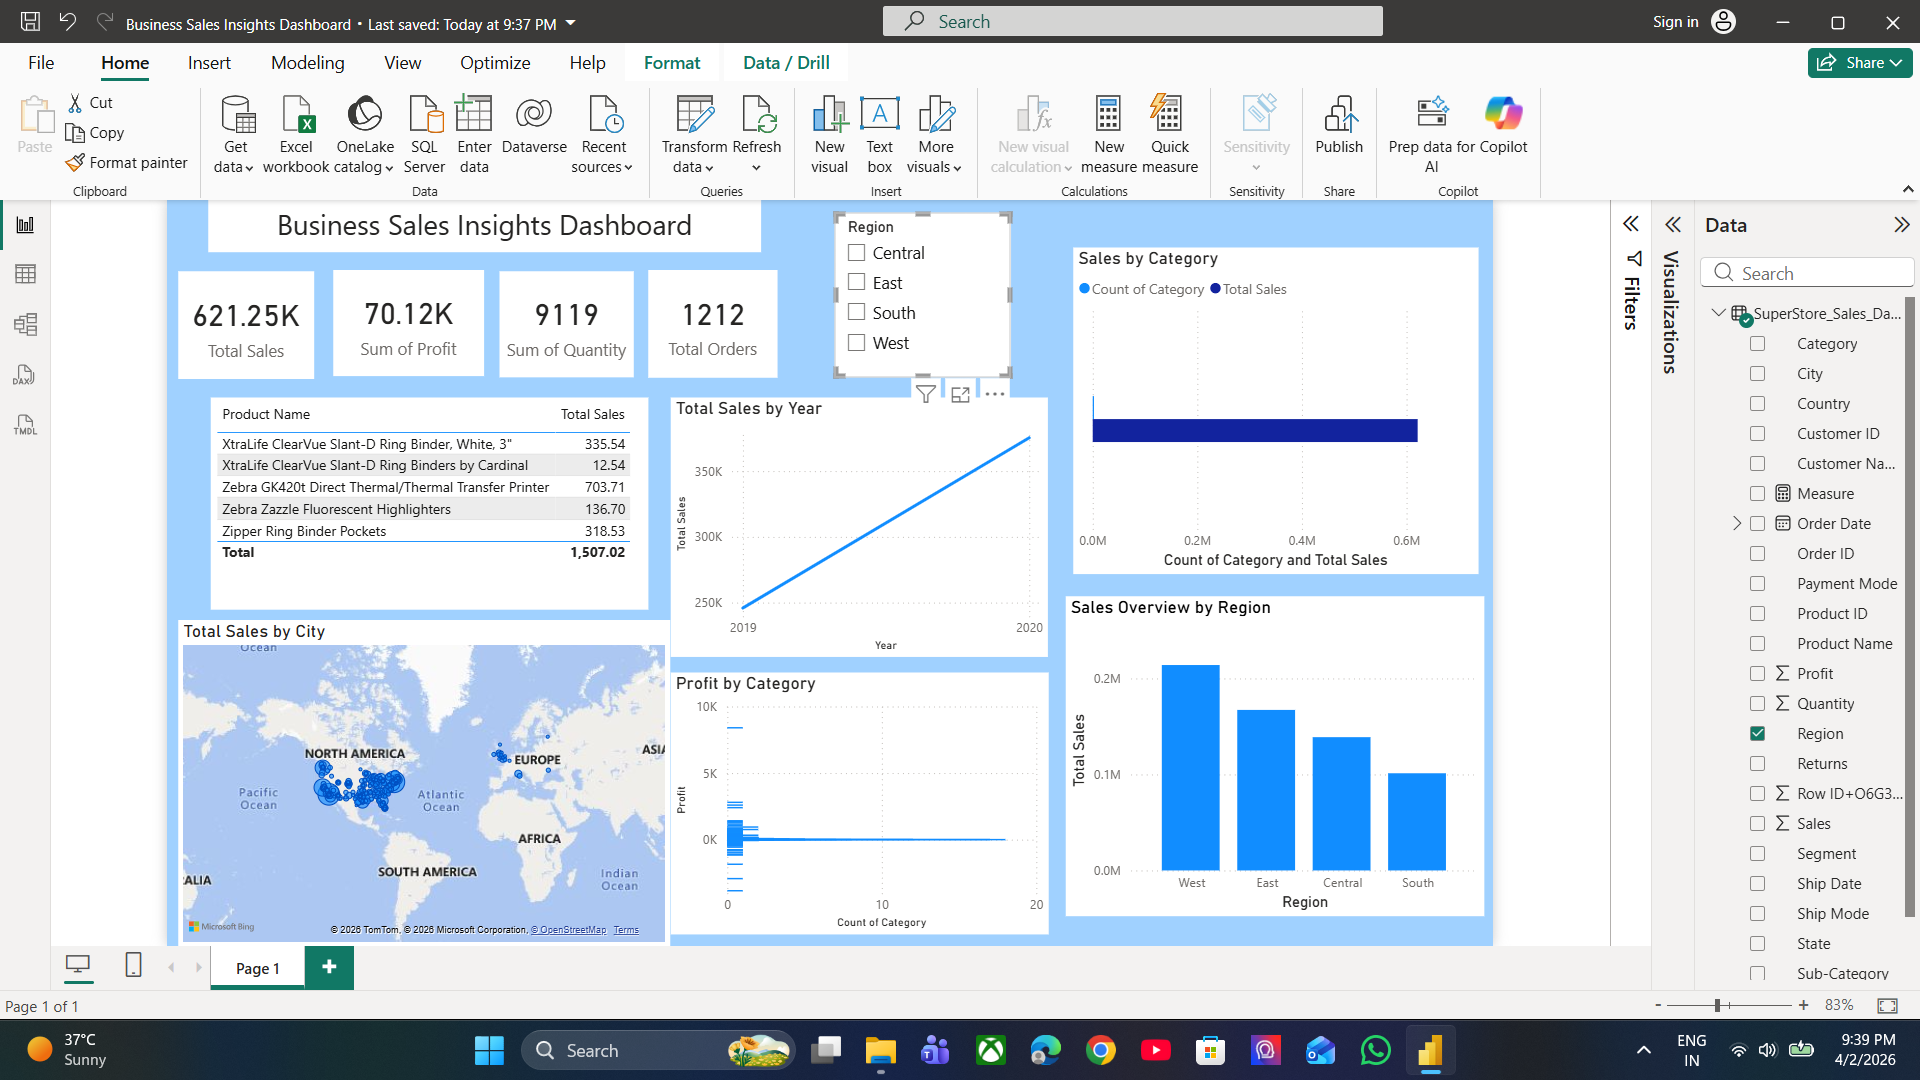

This screenshot's page, from the dashboard's own definition file:
{"tool":"powerbi","page":{"name":"Page 1","canvas":[1280,720],"ordinal":0},"visuals":[{"type":"card","fields":{"Values":["Sum(SuperStore_Sales_Dataset.Profit)"]},"box":[160.5,67.9,145.7,102.5],"z":0},{"type":"card","fields":{"Values":["Sum(SuperStore_Sales_Dataset.Quantity)"]},"box":[321,69.1,129.6,102.5],"z":1000},{"type":"card","fields":{"Values":["SuperStore_Sales_Dataset.Total Orders"]},"box":[464.2,67.9,124.7,103.7],"z":2000},{"type":"card","fields":{"Values":["SuperStore_Sales_Dataset.Total Sales"]},"box":[11.1,69.1,130.9,103.7],"z":3000},{"type":"clusteredBarChart","title":"Sales by Category","fields":{"Y":["CountNonNull(SuperStore_Sales_Dataset.Category)","SuperStore_Sales_Dataset.Total Sales"]},"box":[874.1,45.7,391.4,314.8],"z":4000},{"type":"columnChart","title":"Sales Overview by Region","fields":{"Y":["SuperStore_Sales_Dataset.Total Sales"],"Category":["SuperStore_Sales_Dataset.Region"]},"box":[867.9,382.7,403.7,308.6],"z":5000},{"type":"slicer","fields":{"Values":["SuperStore_Sales_Dataset.Region"]},"box":[644.4,12.3,170.4,159.3],"z":6000},{"type":"barChart","title":"Profit by Category","fields":{"Category":["SuperStore_Sales_Dataset.Profit"],"Y":["CountNonNull(SuperStore_Sales_Dataset.Category)"]},"box":[494.6,454.8,364.3,252.1],"z":7000},{"type":"tableEx","fields":{"Values":["SuperStore_Sales_Dataset.Product Name","SuperStore_Sales_Dataset.Total Sales"]},"box":[42,190.1,422.2,204.9],"z":8000},{"type":"lineChart","fields":{"Category":["SuperStore_Sales_Dataset.Order Date.Variation.Date Hierarchy.Year","SuperStore_Sales_Dataset.Order Date.Variation.Date Hierarchy.Quarter","SuperStore_Sales_Dataset.Order Date.Variation.Date Hierarchy.Month","SuperStore_Sales_Dataset.Order Date.Variation.Date Hierarchy.Day"],"Y":["SuperStore_Sales_Dataset.Total Sales"]},"box":[494.6,190.6,364.3,249.7],"z":9000},{"type":"textbox","box":[39.5,0,533.3,50.6],"z":10000},{"type":"map","fields":{"Size":["SuperStore_Sales_Dataset.Total Sales"],"Category":["SuperStore_Sales_Dataset.City","SuperStore_Sales_Dataset.State"]},"box":[11,404.8,474.8,315.6],"z":11000}]}

Visuals, with their boxes on the page's 1280x720 design canvas (x1, y1, x2, y2). These are canvas units, not pixel positions in the 1920x1080 screenshot, which may show the page scaled, cropped or inside an application window:
card - Sum(SuperStore_Sales_Dataset.Profit): crop(160, 68, 306, 170)
card - Sum(SuperStore_Sales_Dataset.Quantity): crop(321, 69, 451, 172)
card - SuperStore_Sales_Dataset.Total Orders: crop(464, 68, 589, 172)
card - SuperStore_Sales_Dataset.Total Sales: crop(11, 69, 142, 173)
"Sales by Category" clusteredBarChart: crop(874, 46, 1266, 360)
"Sales Overview by Region" columnChart: crop(868, 383, 1272, 691)
slicer - SuperStore_Sales_Dataset.Region: crop(644, 12, 815, 172)
"Profit by Category" barChart: crop(495, 455, 859, 707)
tableEx - SuperStore_Sales_Dataset.Product Name x SuperStore_Sales_Dataset.Total Sales: crop(42, 190, 464, 395)
lineChart - SuperStore_Sales_Dataset.Order Date.Variation.Date Hierarchy.Year x SuperStore_Sales_Dataset.Order Date.Variation.Date Hierarchy.Quarter: crop(495, 191, 859, 440)
textbox: crop(40, 0, 573, 51)
map - SuperStore_Sales_Dataset.Total Sales x SuperStore_Sales_Dataset.City: crop(11, 405, 486, 720)
